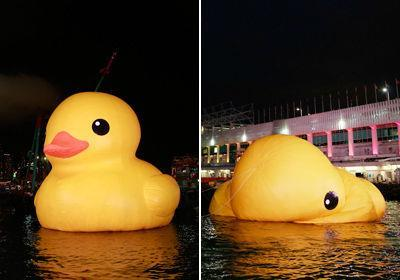rubber_duck: (35, 85, 182, 237)
